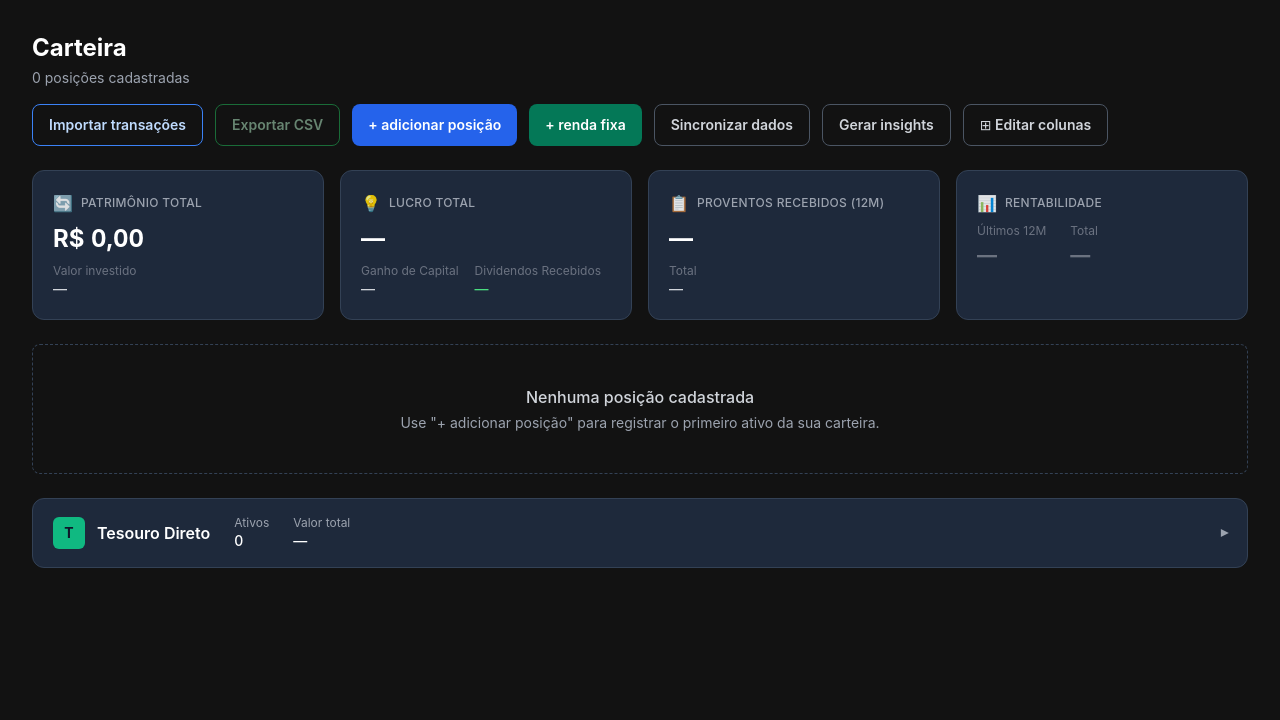
it: CarteiraPage — modal não fecha com escrita em voo › volta a fechar normalmente depois que a escrita conclui
Expected: the text "Nenhuma posição cadastrada" is shown, [526,387,754,407]
Click the button "+ adicionar posição". click: (435, 125)
box: [352,104,517,146]
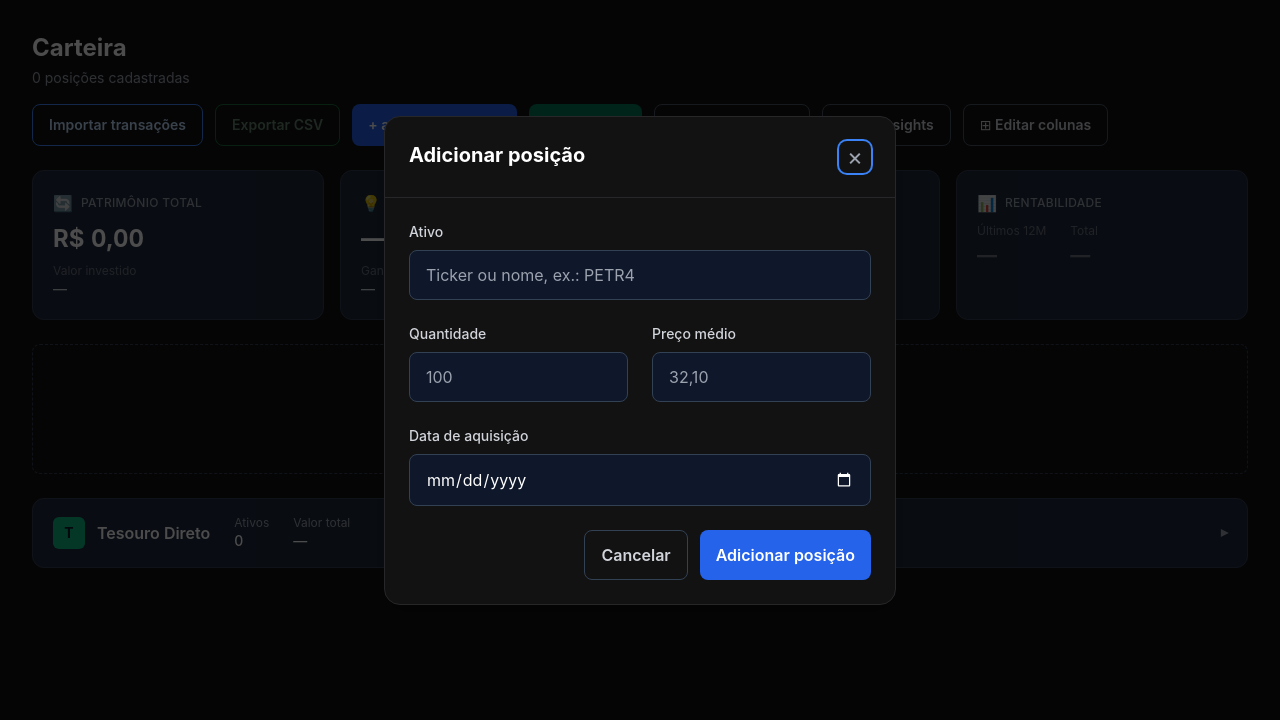
Now the dialog is shown
Press Escape in the dialog, box [384,116,896,604]
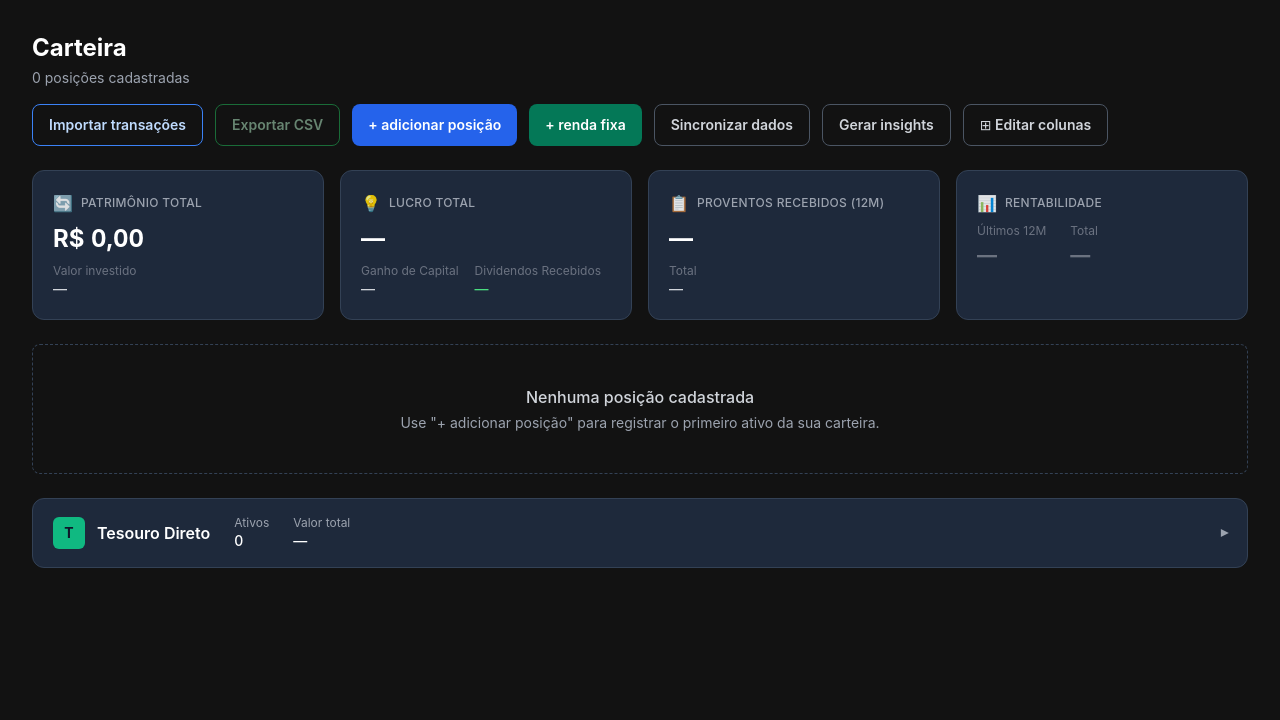
Now the dialog is gone
